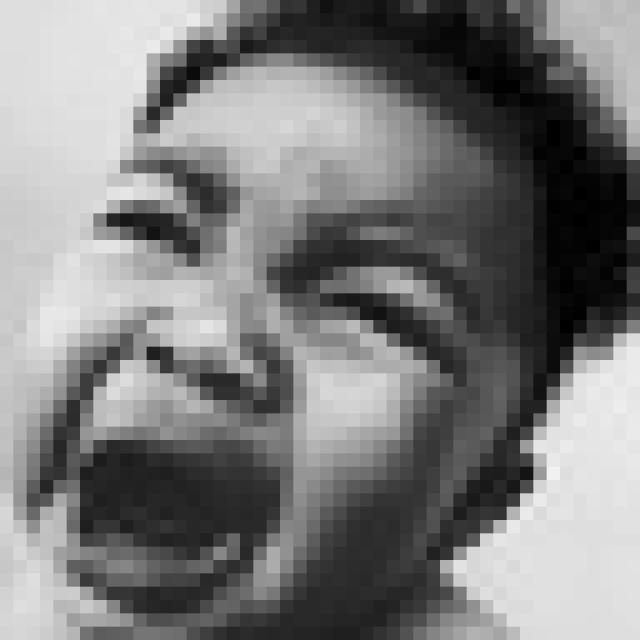sad: (17, 135, 494, 640)
